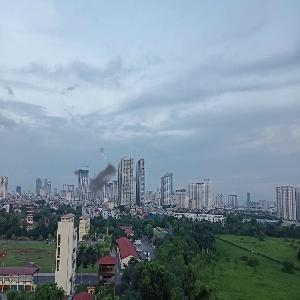drone: (61, 141, 155, 235)
